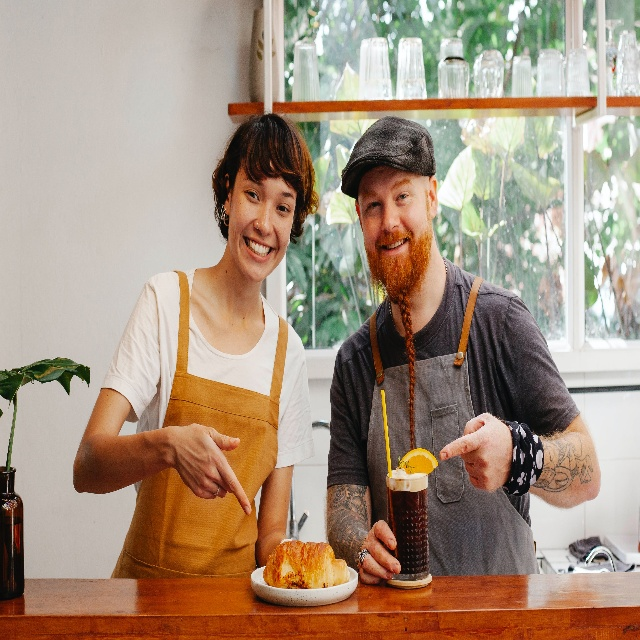Sin_guantes: (172, 421, 252, 516), (439, 412, 513, 491), (357, 520, 401, 585)
